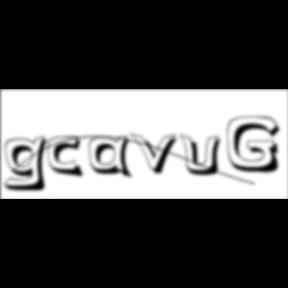G: (228, 116, 286, 176)
a: (90, 135, 138, 182)
c: (48, 136, 88, 180)
g: (3, 134, 55, 194)
u: (180, 132, 228, 178)
v: (130, 131, 184, 177)
